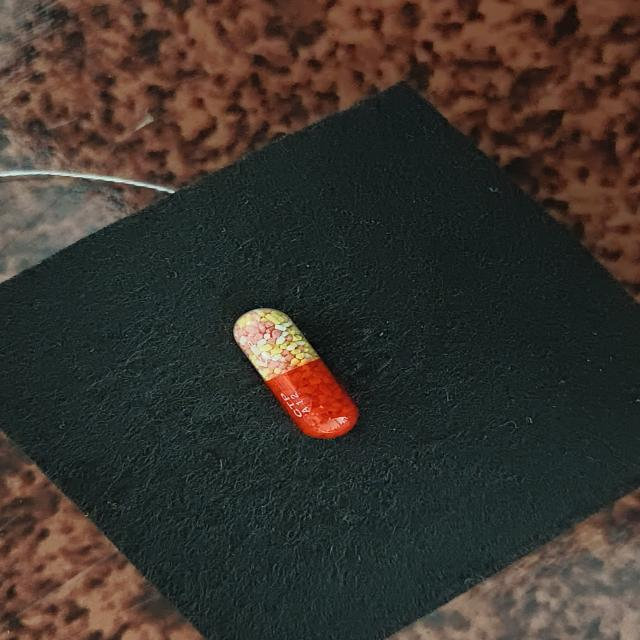Intact Capsule: (233, 308, 358, 439)
